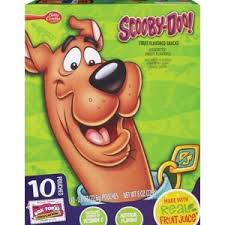scooby: (25, 15, 160, 202)
